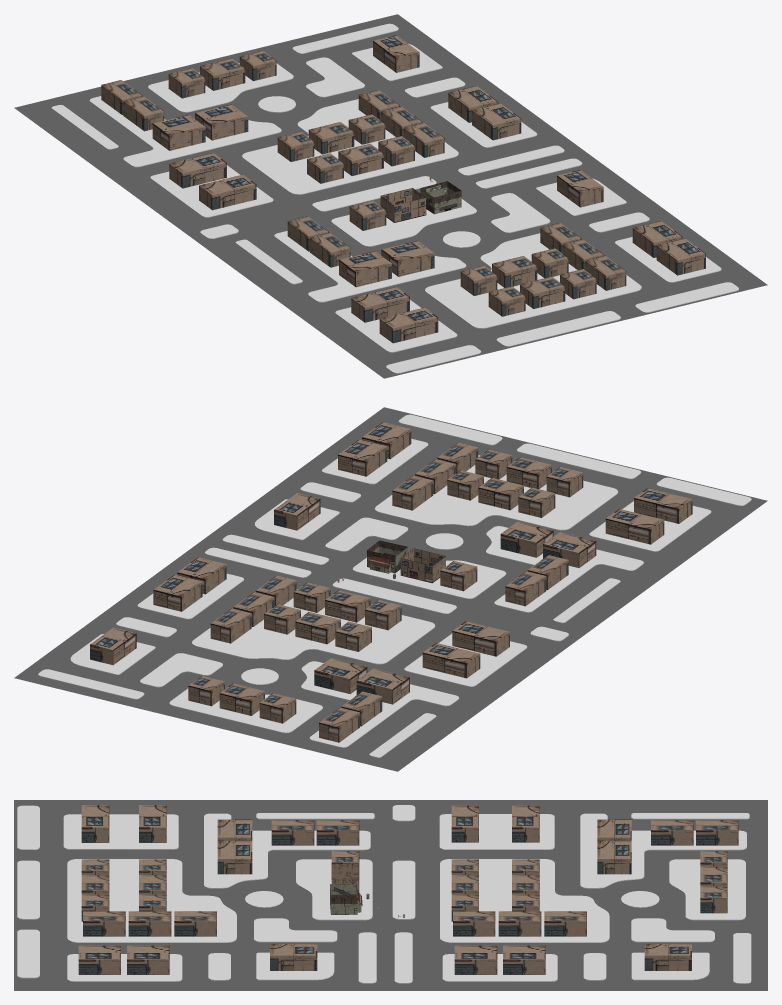
Rendered from boop 1.fbx.
3 views of the same model, one above another, from view 1: azimuth 30°, elevation 25°; view 2: azimuth 150°, elevation 25°; view 3: azimuth 270°, elevation 25° (orthographic).
Visible parts, largest first — view 1: streetPlane, layout1, pCube70, pCube69, pCube67, pCube68, pCube64, pCube37, pCube60, pCube57, pCube63, pCube38 (+32 smaller); view 2: streetPlane, layout1, pCube69, pCube67, pCube70, pCube68, pCube59, pCube58, pCube63, pCube38, pCube37, pCube64 (+32 smaller); view 3: streetPlane, layout1, pCube57, pCube62, pCube61, pCube59, pCube58, pCube60, pCube38, pCube63, pCube36, pCube35 (+32 smaller).
Boxes of the visible parts, <box> form: streetPlane: <box>14,14,767,378</box>; layout1: <box>51,23,738,373</box>; pCube70: <box>379,307,438,343</box>; pCube69: <box>351,287,409,322</box>; pCube67: <box>169,153,226,188</box>; pCube68: <box>199,174,256,210</box>; pCube64: <box>152,114,205,150</box>; pCube37: <box>339,251,391,287</box>; pCube60: <box>656,238,705,275</box>; pCube57: <box>472,103,521,140</box>; pCube63: <box>195,104,248,140</box>; pCube38: <box>381,241,434,276</box>; streetPlane: <box>14,407,767,771</box>; layout1: <box>38,414,751,757</box>; pCube69: <box>605,509,664,544</box>; pCube67: <box>422,643,480,678</box>; pCube70: <box>634,488,692,523</box>; pCube68: <box>452,621,509,656</box>; pCube59: <box>338,439,387,476</box>; pCube58: <box>153,574,202,611</box>; pCube63: <box>314,658,367,694</box>; pCube38: <box>500,521,553,557</box>; pCube37: <box>543,532,596,567</box>; pCube64: <box>356,668,409,704</box>; streetPlane: <box>14,800,767,990</box>; layout1: <box>17,805,751,983</box>; pCube57: <box>454,945,497,974</box>; pCube62: <box>644,944,691,970</box>; pCube61: <box>270,944,317,970</box>; pCube59: <box>127,945,169,974</box>; pCube58: <box>503,945,545,974</box>; pCube60: <box>78,945,120,974</box>; pCube38: <box>217,841,252,874</box>; pCube63: <box>597,841,631,874</box>; pCube36: <box>271,820,314,845</box>; pCube35: <box>316,820,359,845</box>.
Bounding box in the file's own units: 5206 × 264 × 8695.
